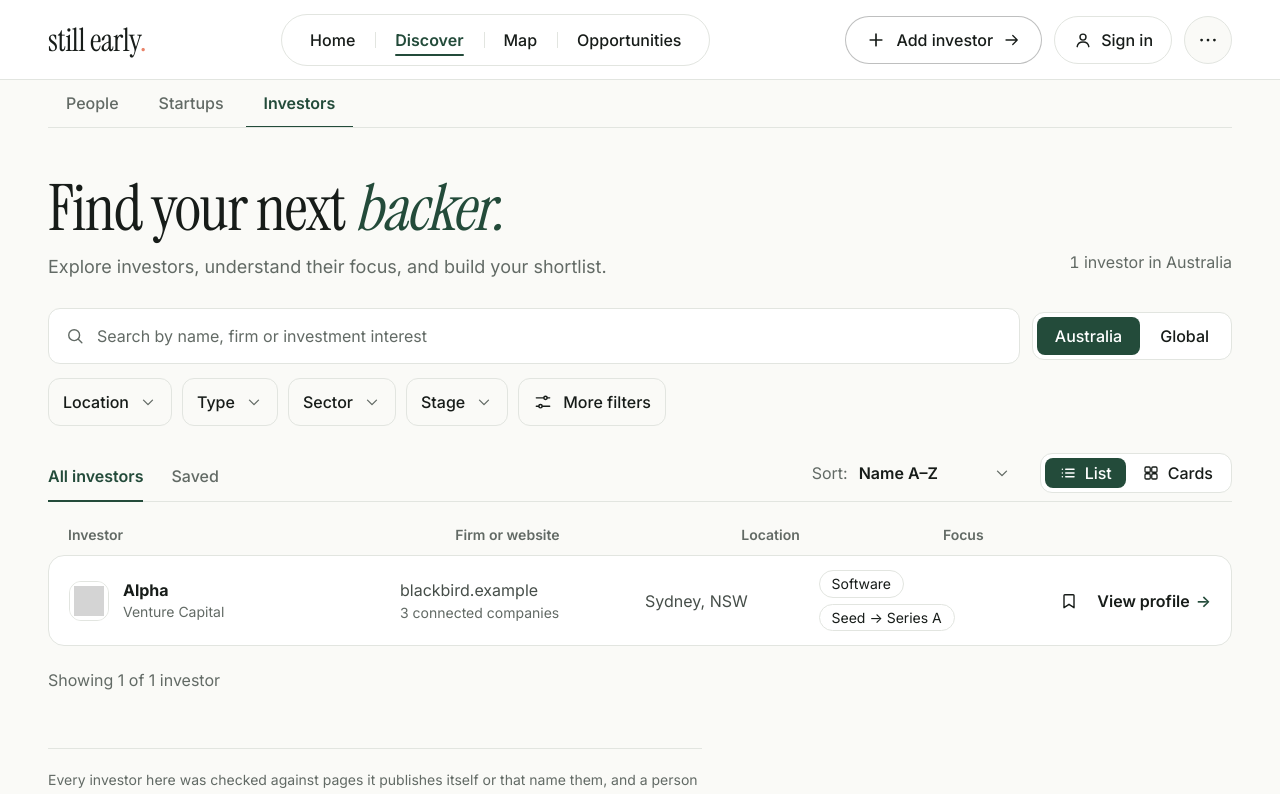
Test: the investor directory › Australia and global › says when nothing in Australia matches, and offers to look worldwide when the rest of the world has more
The image size is (1280, 794).
Expected: the link "Alpha" is shown, top-left (123, 580), bottom-right (169, 600)
Type "Zed" into the search field at (550, 336), box top-left (97, 309), bottom-right (1003, 363)
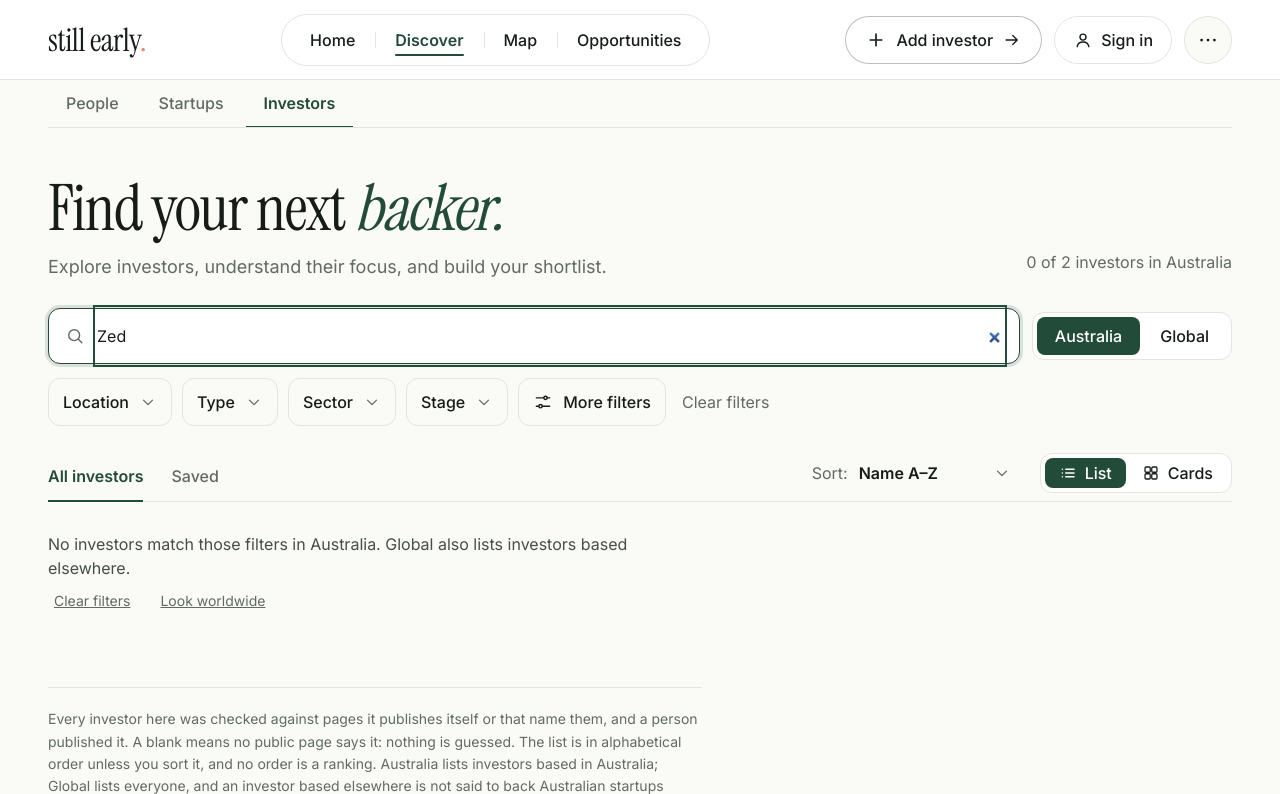
Now the text "No investors match those filters in Australia. Global also lists investors based elsewhere." is shown, box top-left (48, 532), bottom-right (654, 580)
Click the button "Look worldwide" at (213, 601), box top-left (154, 588), bottom-right (271, 613)
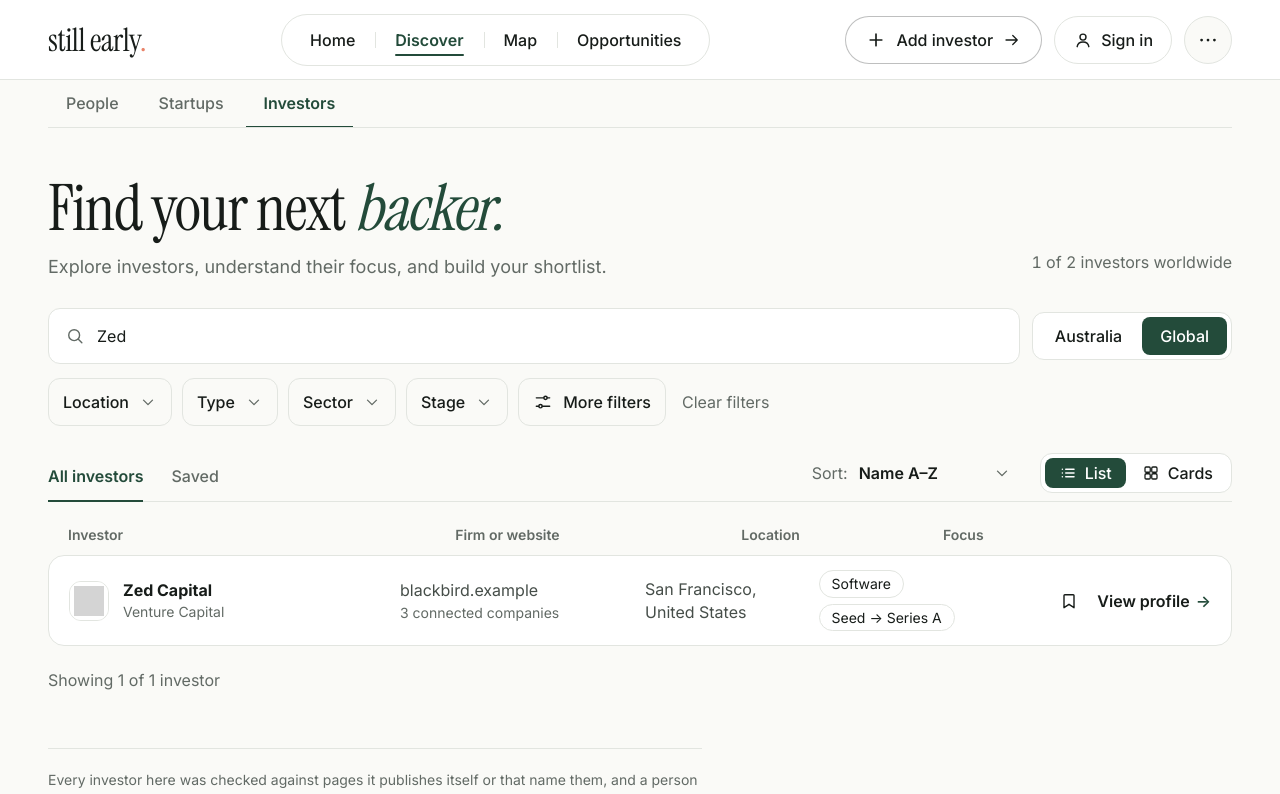
Now the link "Zed Capital" is shown, box top-left (123, 580), bottom-right (212, 600)
